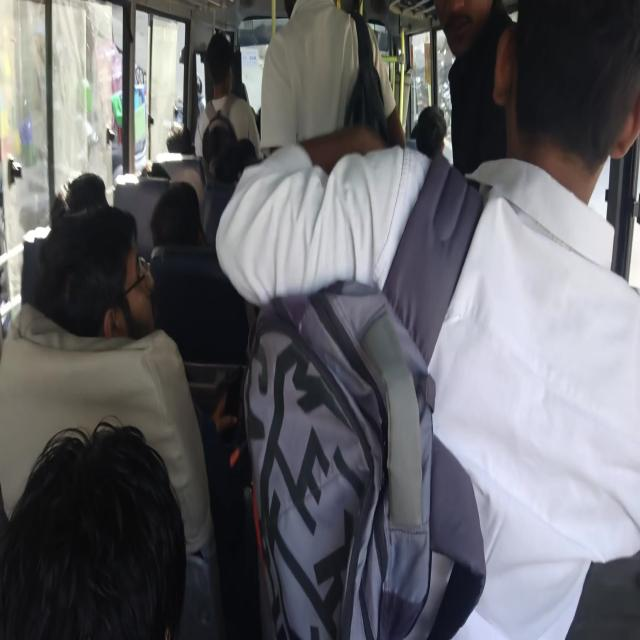person: (26, 410, 169, 640), (524, 0, 626, 230), (268, 0, 378, 120), (427, 2, 532, 125), (48, 224, 152, 346), (160, 180, 208, 264), (202, 42, 250, 108), (414, 102, 457, 159), (208, 154, 254, 200), (56, 178, 110, 214), (168, 116, 198, 160), (136, 155, 174, 188)
